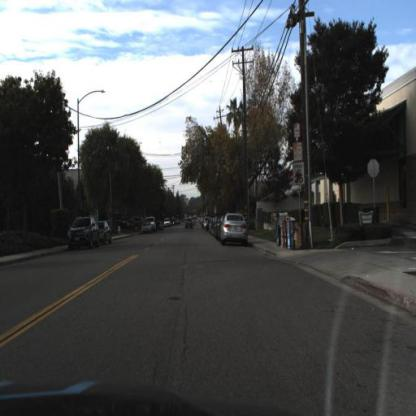car: (69, 214, 100, 250), (220, 215, 250, 244), (91, 220, 109, 252), (132, 218, 148, 236)
